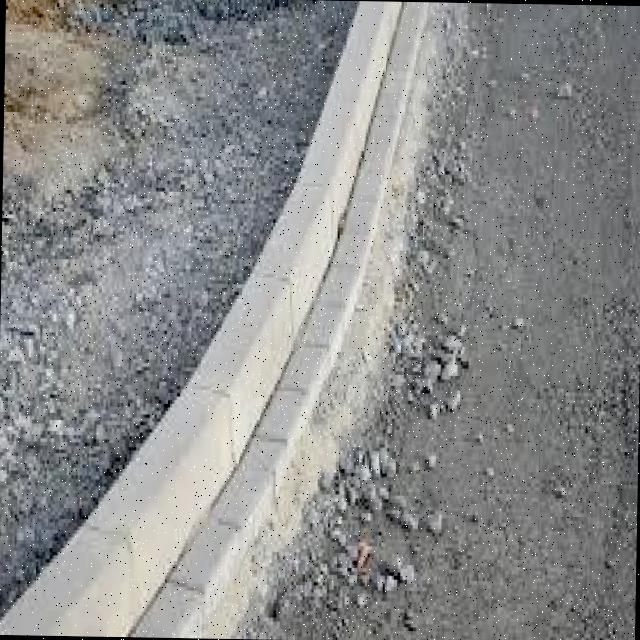curb: (29, 477, 248, 635), (166, 350, 318, 510), (216, 211, 344, 353), (330, 1, 424, 147), (297, 123, 378, 269)
